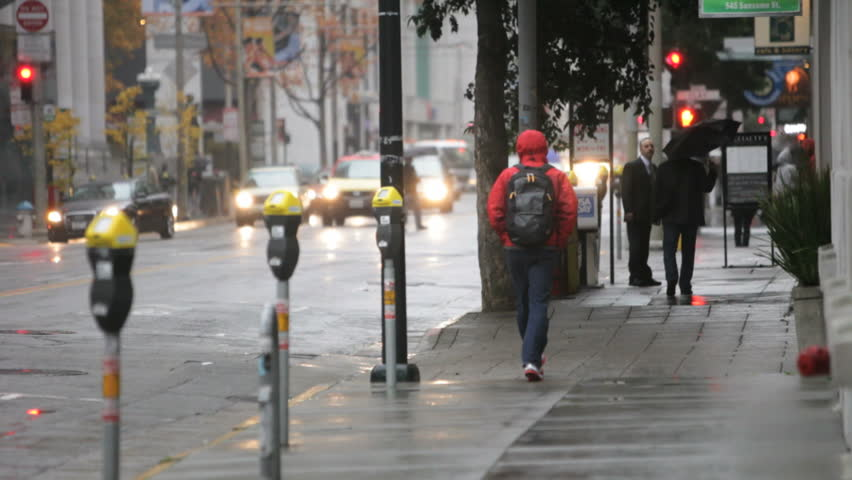car: (39, 171, 185, 246), (320, 158, 417, 225), (231, 158, 313, 227)
person: (476, 123, 589, 386), (615, 134, 666, 289)
